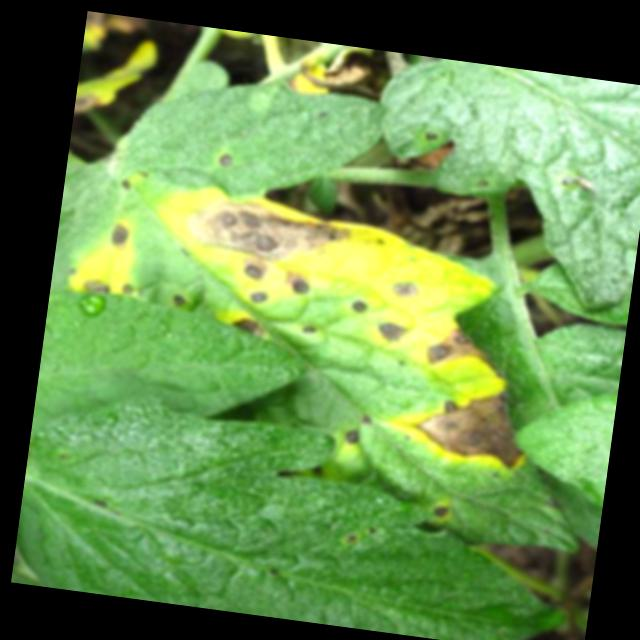Early_blight: (181, 185, 361, 271), (388, 376, 535, 474), (422, 320, 518, 382), (239, 254, 276, 285), (282, 266, 316, 297), (227, 310, 267, 335), (107, 219, 137, 252), (376, 318, 412, 345), (390, 275, 424, 302), (81, 274, 112, 297), (430, 494, 454, 522), (246, 284, 272, 307), (343, 425, 365, 447), (215, 151, 237, 167), (351, 296, 371, 313), (171, 291, 190, 308), (300, 322, 321, 335)
